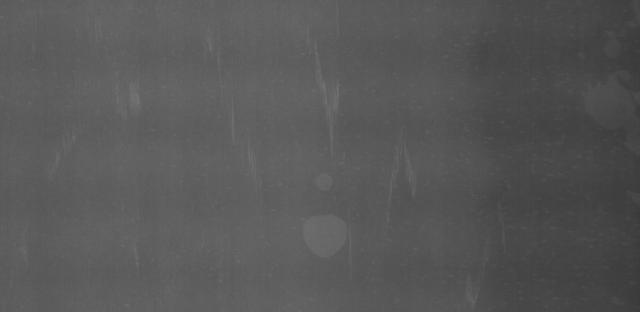silk_spot: (294, 172, 370, 264), (376, 134, 435, 214), (304, 55, 360, 127), (106, 67, 144, 116), (195, 29, 231, 65), (229, 115, 259, 156)
